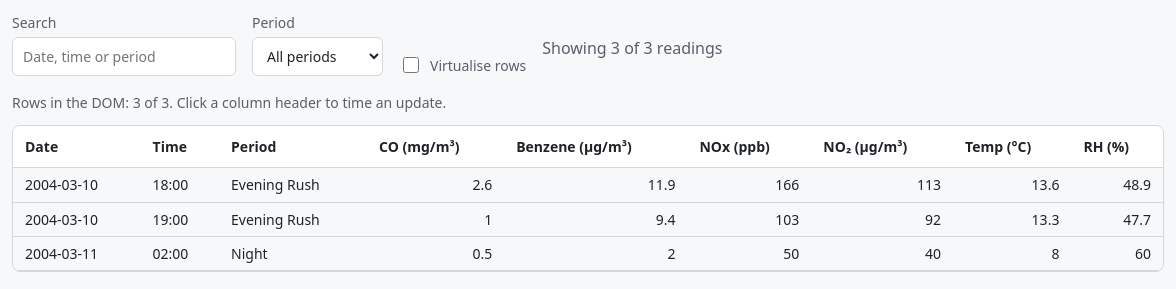
DataExplorer › filters by period
Expected: the text "Showing 3 of 3 readings" is shown, x1=542 y1=36 x2=722 y2=60
Select "Night" in the dropdown labelled "Period". click: (318, 56)
box: x1=252 y1=37 x2=383 y2=76
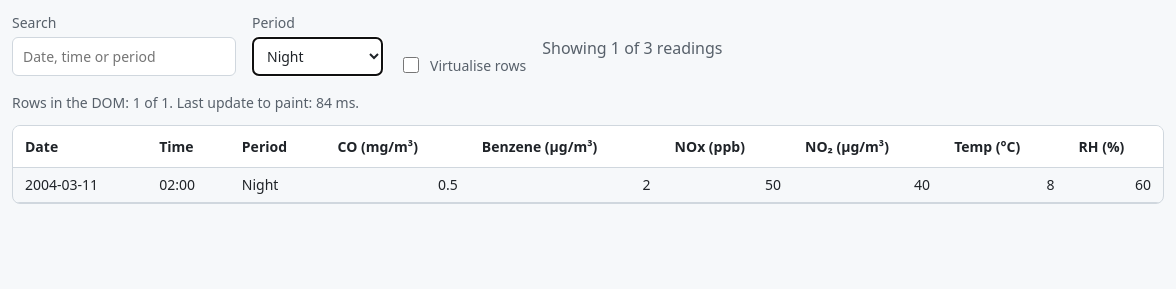
Expected: the text "Showing 1 of 3 readings" is shown, x1=542 y1=36 x2=722 y2=60
